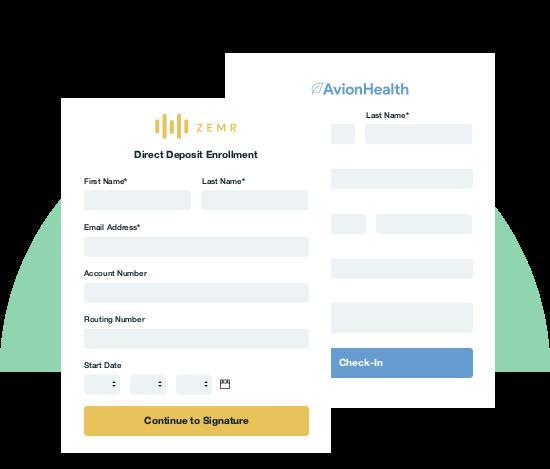button: (85, 407, 310, 437), (332, 348, 475, 379)
icon: (220, 379, 232, 392)
input: (86, 237, 310, 257), (85, 330, 310, 349), (332, 303, 474, 333), (86, 284, 309, 303), (332, 170, 475, 190), (332, 260, 474, 280), (366, 125, 473, 146), (202, 192, 309, 211), (85, 191, 191, 210), (377, 214, 472, 235), (333, 216, 367, 235), (332, 125, 357, 145)
label: (83, 313, 148, 326), (83, 269, 149, 281), (84, 223, 143, 234), (82, 176, 131, 189), (202, 176, 246, 189), (365, 111, 413, 121), (82, 361, 123, 371)
